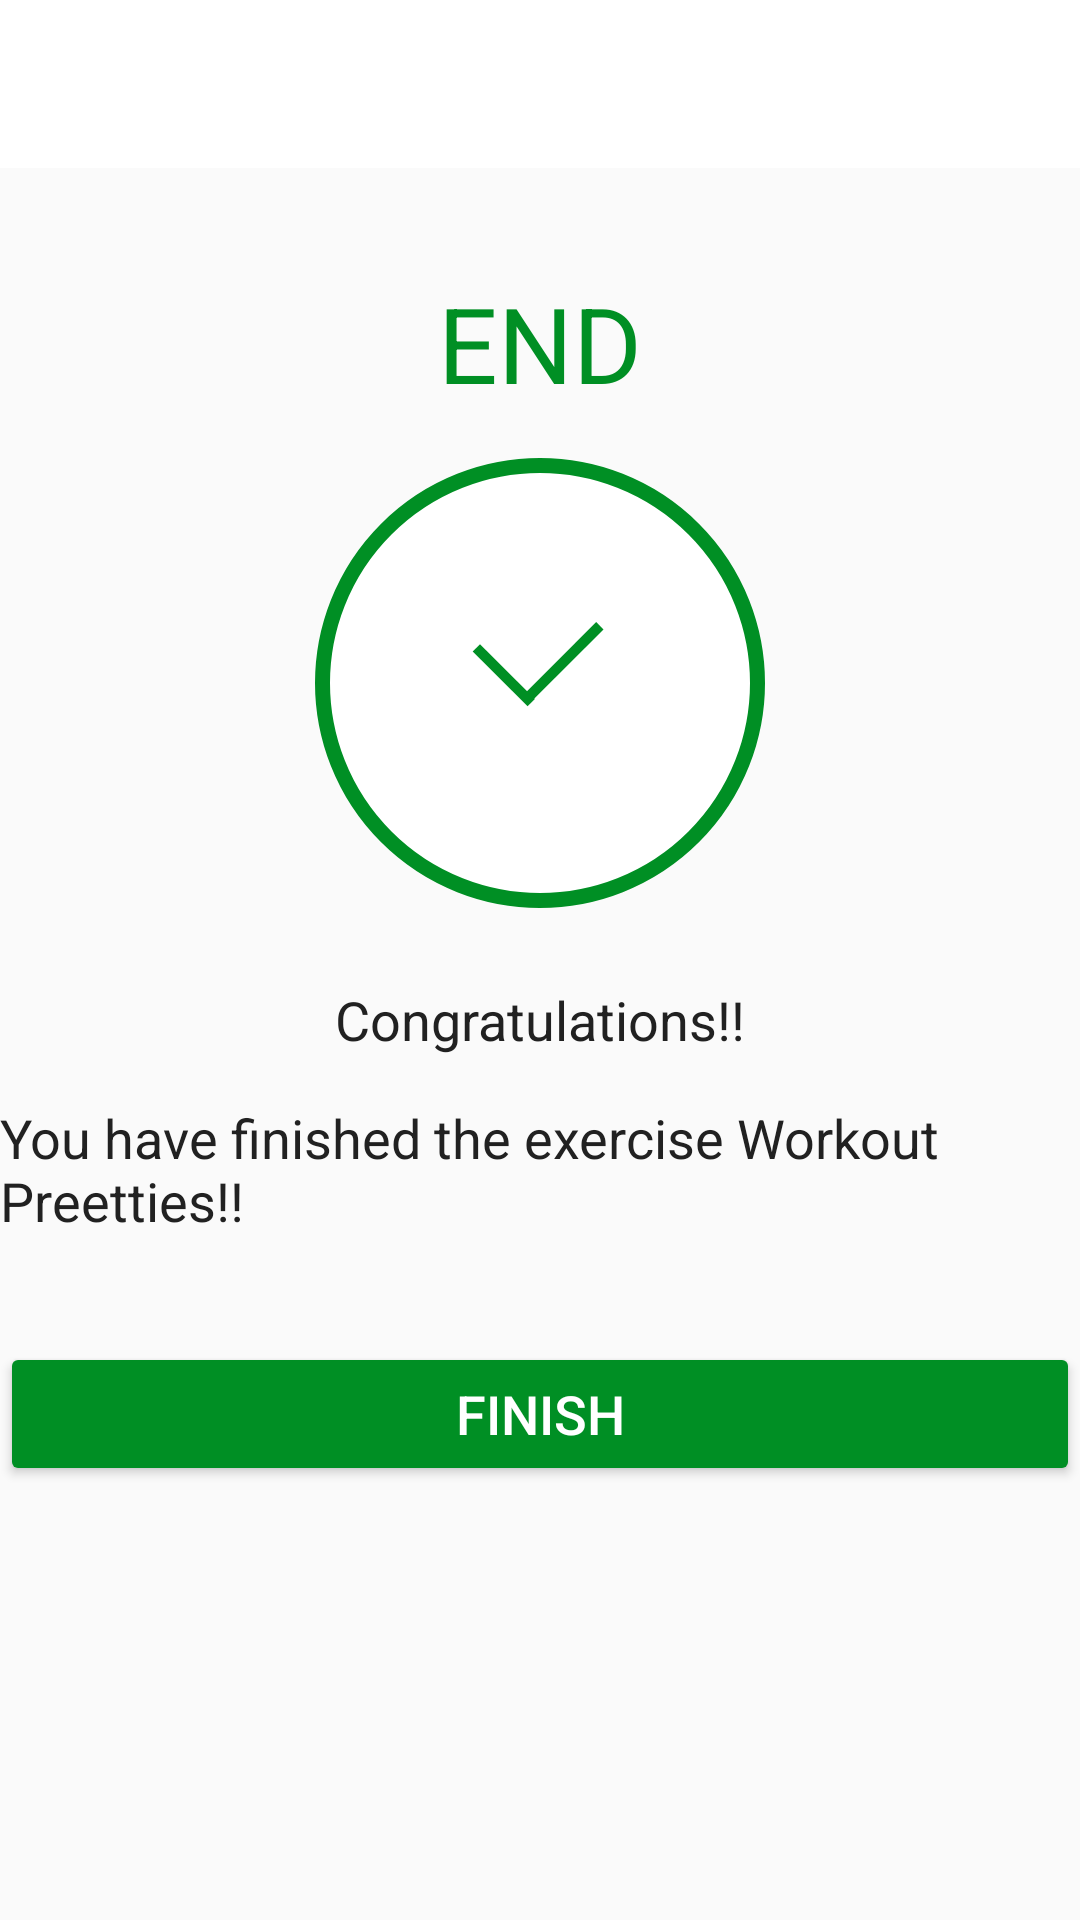

Where icons sit on this 1080px x 1920px app screen, as (left=x1, top=y1, right=x2, bottom=y2):
item check: (left=473, top=622, right=604, bottom=706)
